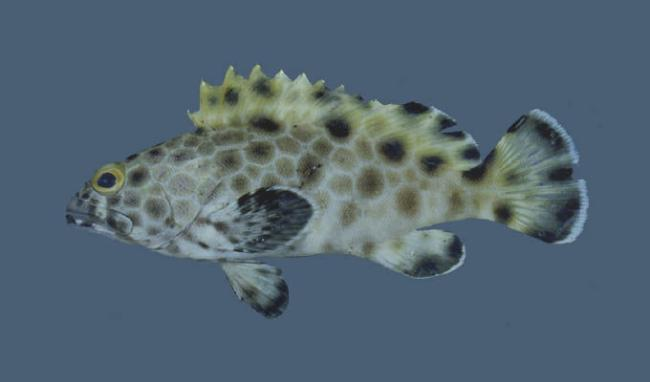fish: (64, 62, 591, 322)
